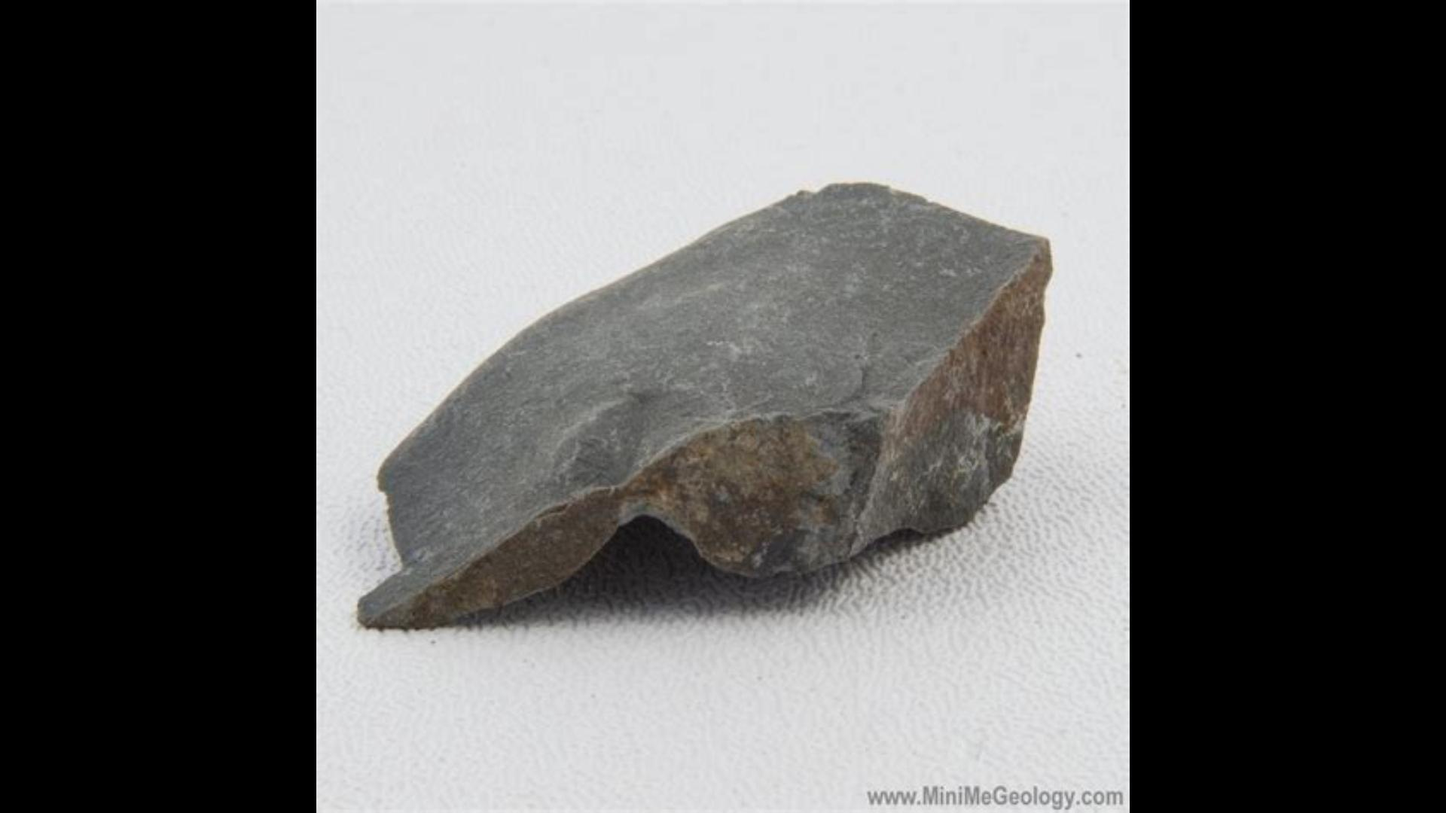rock: (361, 185, 1044, 626)
